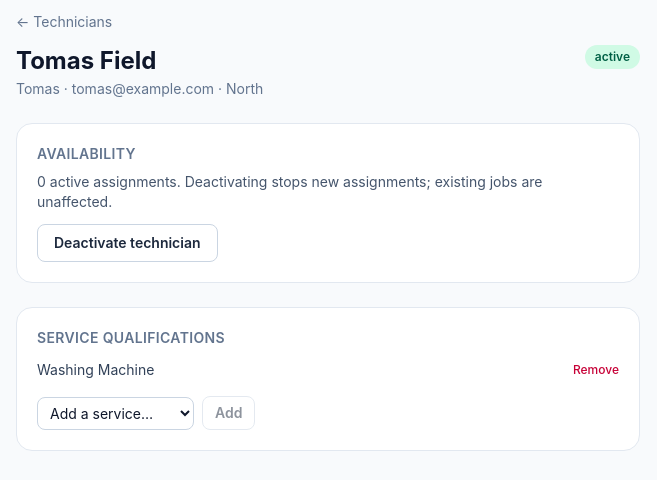
it: OperationsTechnicianDetailPage › deactivates the technician after confirmation
expect the heading "Tomas Field" is shown: met, box [16,46,156,75]
Click the button "Deactivate technician": [127, 243] box [37,224,218,262]
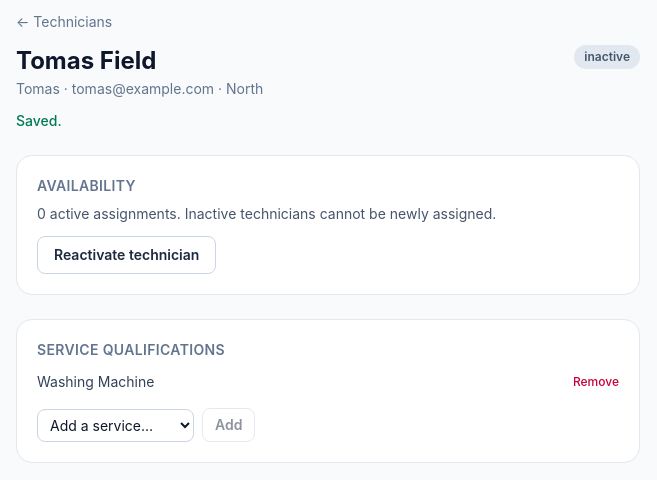
expect the text "inactive" is shown: met, box [574,45,640,69]
